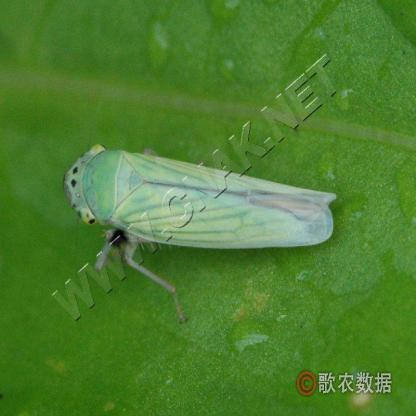Green-Leafhopper: (61, 137, 343, 314)
